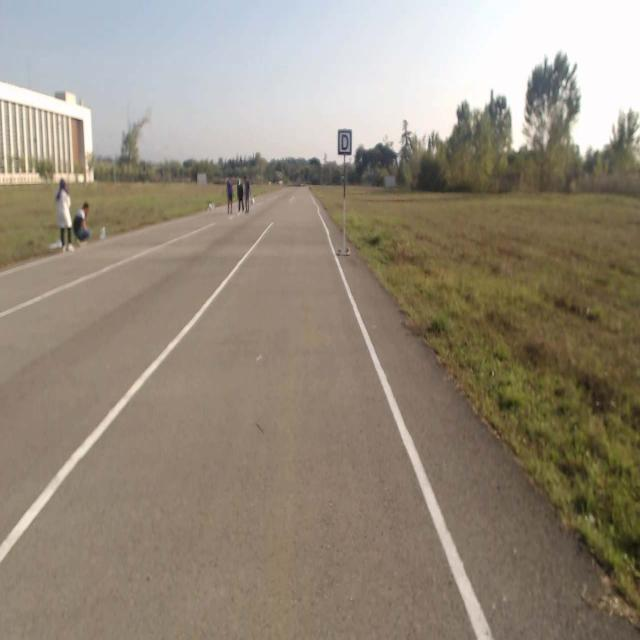durak: (338, 130, 352, 154)
